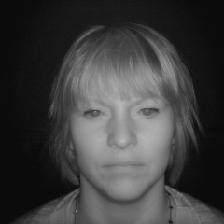normal: (44, 27, 194, 206)
